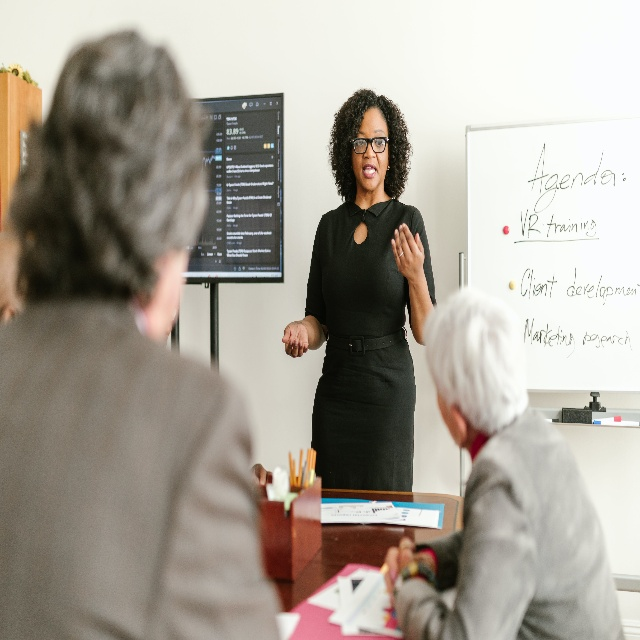Gafas: (181, 48, 291, 143), (352, 134, 387, 156)
Sin_guantes: (391, 222, 426, 277), (282, 323, 309, 359)
